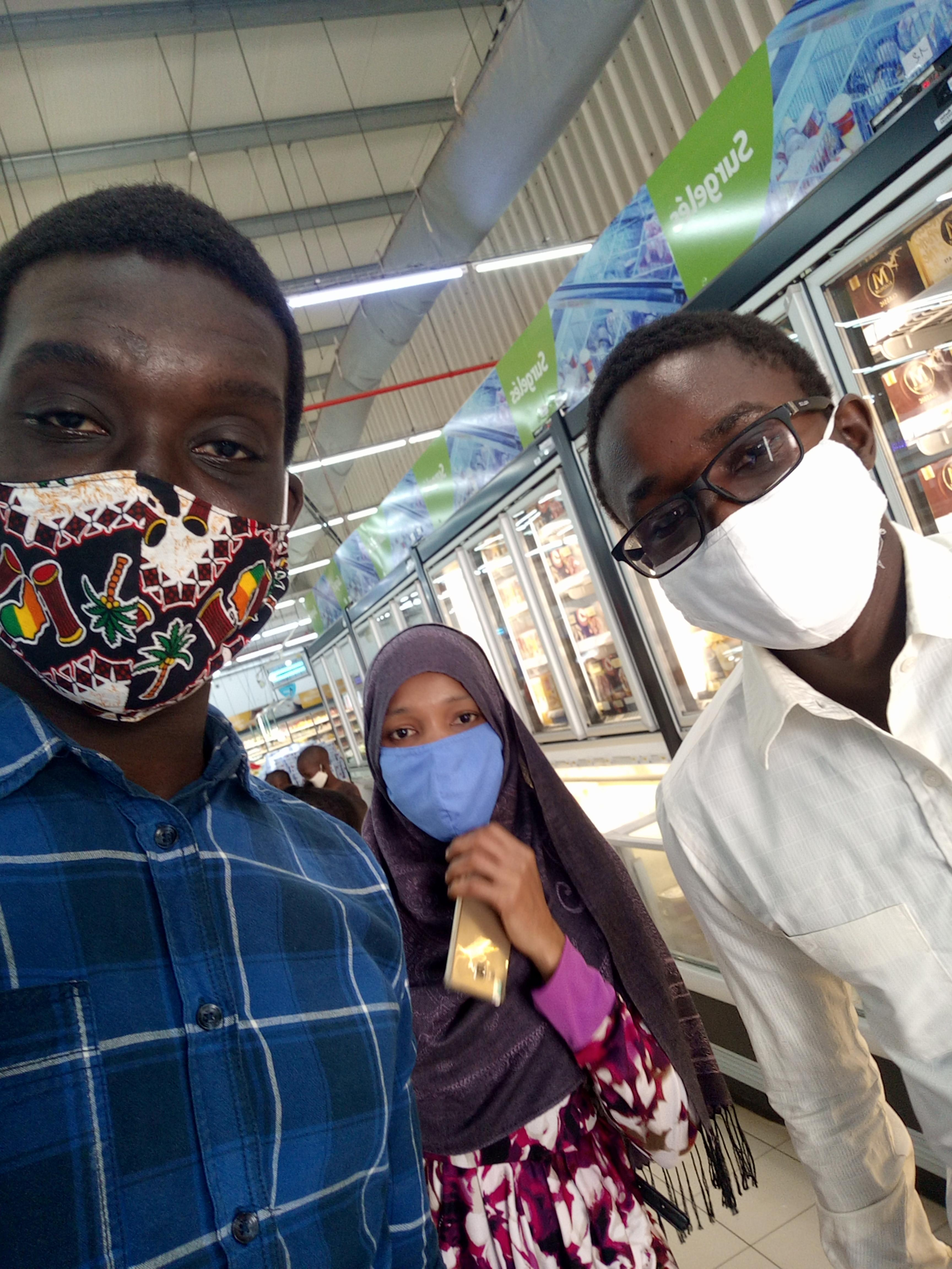Wearing Mask: (500, 224, 952, 678), (0, 169, 334, 766), (332, 521, 590, 832)
